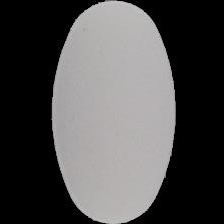76237-275: (0, 0, 224, 224)
